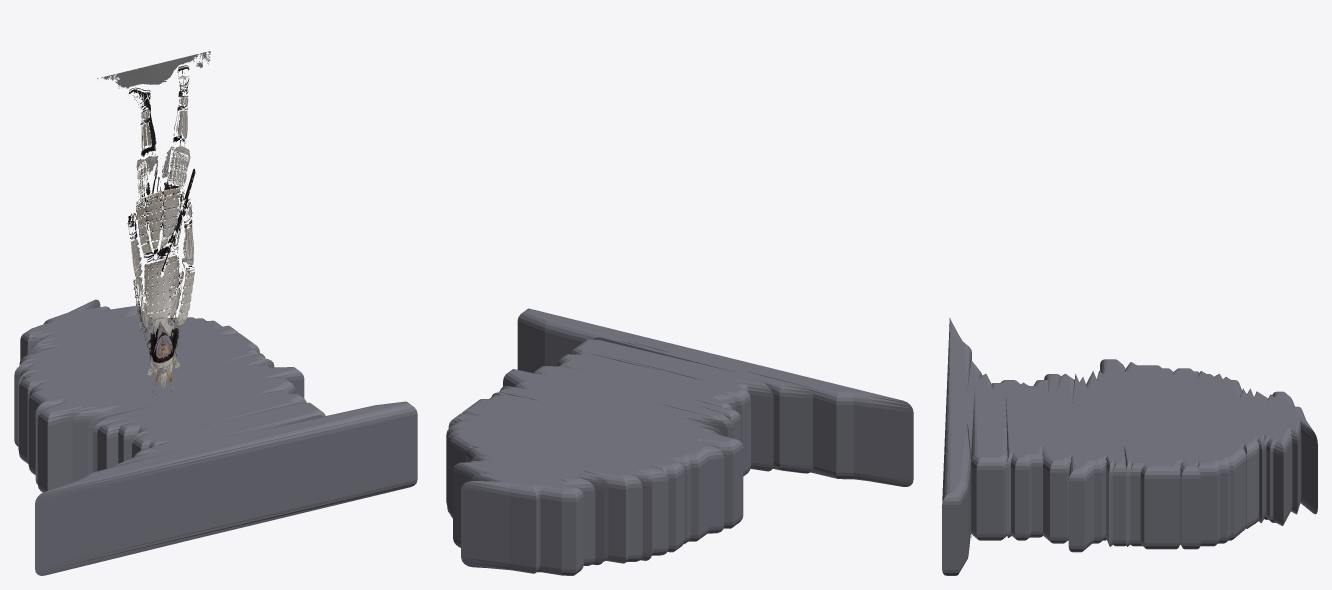
File: japan_w.glb
3 views of the same model, side by side, from view 1: azimuth 30°, elevation 25°; view 2: azimuth 150°, elevation 25°; view 3: azimuth 270°, elevation 25° (orthographic). The views are drawn at different scales.
Parts seen in each view (by area): view 1: unit; view 2: unit; view 3: unit.
Part boxes in pixels (box(x1,y1,x2,y2)): unit: box(14, 51, 417, 575); unit: box(446, 308, 913, 575); unit: box(942, 318, 1317, 575).
Bounding box in the file's own units: 0.876 × 1 × 0.7631.
Materials: 2 (1 with a texture image).
